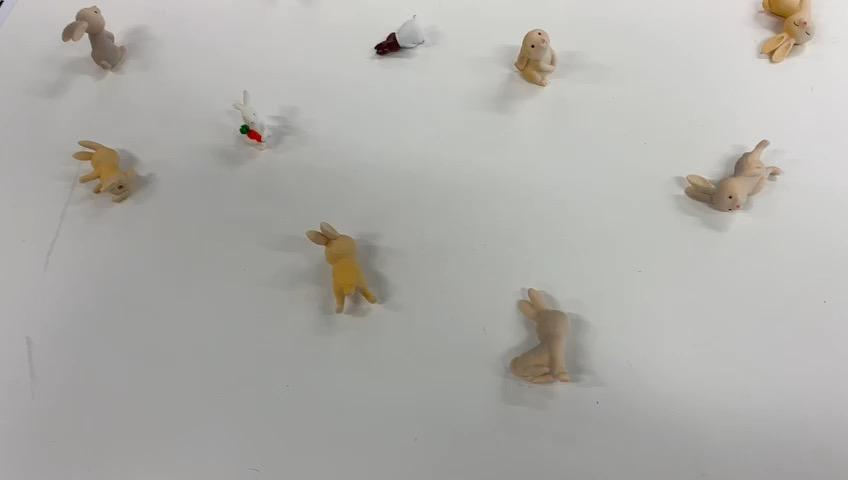pet: (674, 139, 784, 217), (304, 213, 382, 318), (505, 281, 576, 387), (60, 4, 132, 73), (751, 0, 824, 67), (67, 136, 137, 204), (510, 21, 564, 88), (370, 10, 431, 65), (227, 81, 275, 146)
